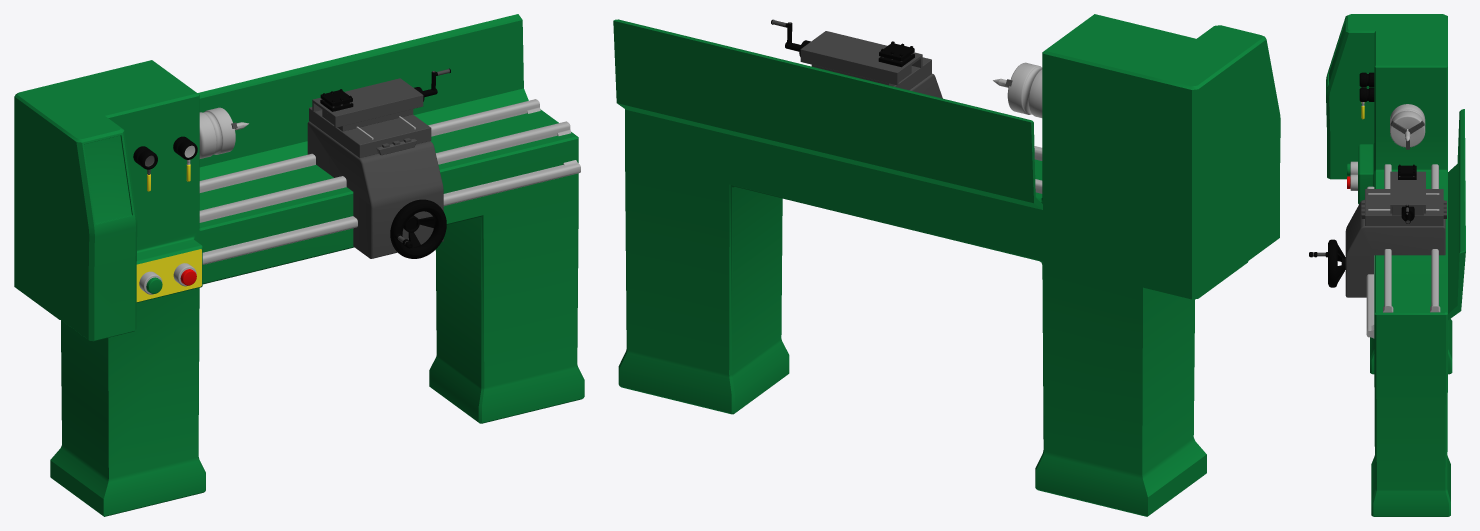
The model's file is TornoMecanico.fbx.
3 views of the same model, side by side, from view 1: azimuth 30°, elevation 25°; view 2: azimuth 150°, elevation 25°; view 3: azimuth 270°, elevation 25° (orthographic). The views are drawn at different scales.
Parts seen in each view (by area): view 1: Torno, Carro, Trilho C, Trilho A, Alavaca de ajuste do Carro, Motor; view 2: Torno, Trilho C, Motor; view 3: Torno, Carro, Trilho A, Trilho C, Motor, Alavaca de ajuste do Carro, Alavanca B, Alavanca A, Alvanca de Ajuste do trilho B, Trilho B.
Boxes of the visible parts, box(x1,y1,x2,y2) form: Torno: box(14, 14, 584, 516); Carro: box(307, 121, 443, 258); Trilho C: box(312, 78, 423, 127); Trilho A: box(309, 107, 431, 157); Alavaca de ajuste do Carro: box(390, 199, 446, 258); Motor: box(199, 107, 248, 158); Torno: box(613, 14, 1280, 516); Trilho C: box(800, 31, 922, 85); Motor: box(993, 62, 1042, 117); Torno: box(1326, 14, 1465, 516); Carro: box(1345, 199, 1446, 297); Trilho A: box(1365, 189, 1443, 225); Trilho C: box(1390, 164, 1425, 213); Motor: box(1390, 104, 1425, 149); Alavaca de ajuste do Carro: box(1309, 239, 1345, 287); Alavanca B: box(1359, 87, 1374, 119); Alavanca A: box(1359, 72, 1374, 103); Alvanca de Ajuste do trilho B: box(1401, 204, 1414, 223); Trilho B: box(1392, 206, 1423, 215).
Bounding box in the file's own units: 609 × 442 × 205.
